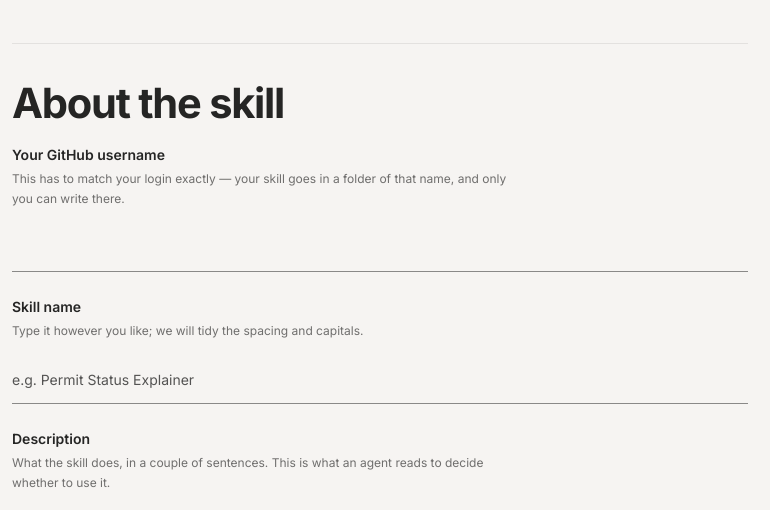
Scenario: the public lookup (api.github.com/users/{name}) › says it could not check when the network fails
(page scrolled)
In the field labelled "Your GitHub username": (380, 248) [12, 225, 748, 272], type "sgarcese"
(page scrolled)
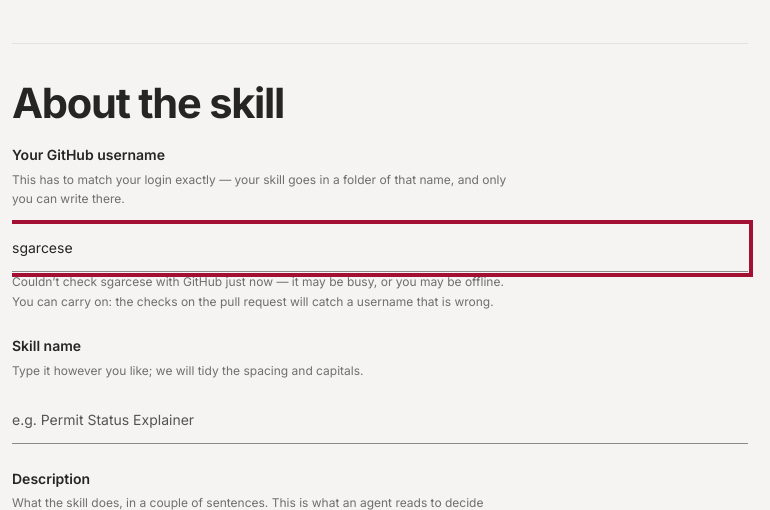
expect the text with test id "user-unchecked" is shown: met, box [12, 272, 512, 311]
